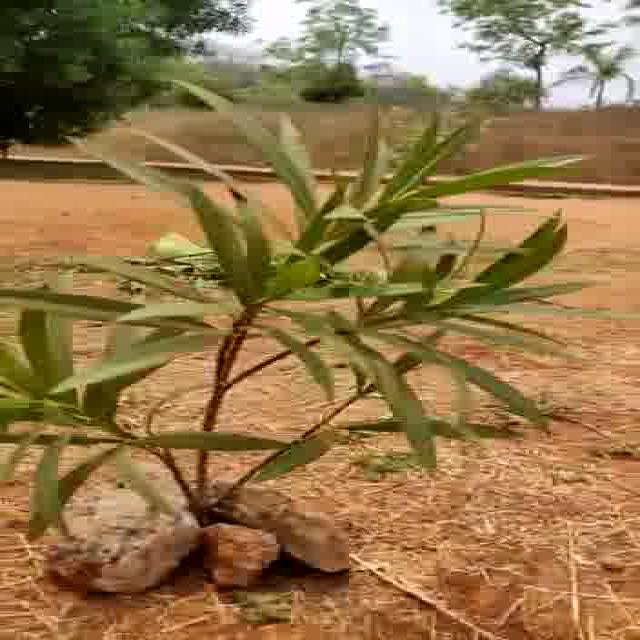Oleander: (19, 102, 595, 490)
